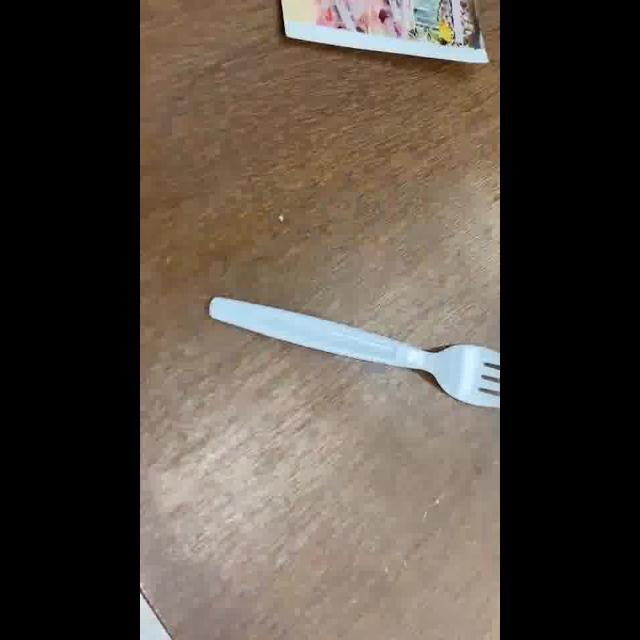plastic_cultery: (208, 295, 500, 407)
